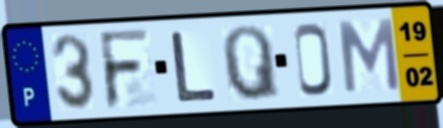0: (292, 21, 334, 98)
3: (49, 32, 97, 114)
F: (96, 27, 153, 113)
L: (169, 29, 220, 104)
M: (336, 16, 403, 95)
Q: (219, 23, 283, 104)
